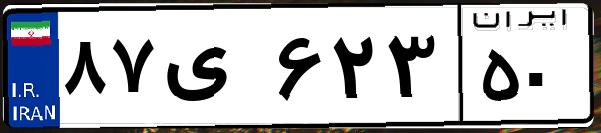0: (525, 38, 570, 115)
2: (330, 28, 385, 110)
3: (385, 28, 445, 110)
5: (475, 38, 525, 113)
6: (270, 28, 330, 110)
7: (110, 28, 158, 98)
8: (57, 26, 110, 100)
ی: (158, 20, 270, 120)
